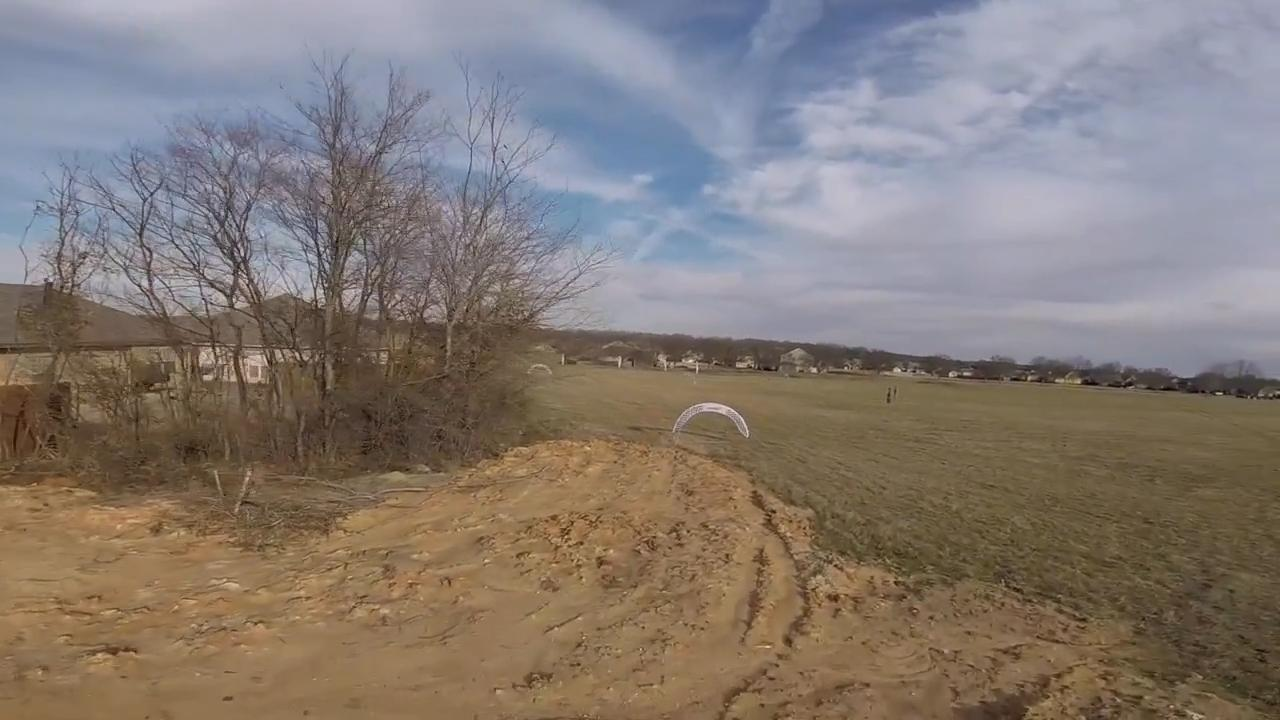gate: (672, 401, 748, 445)
